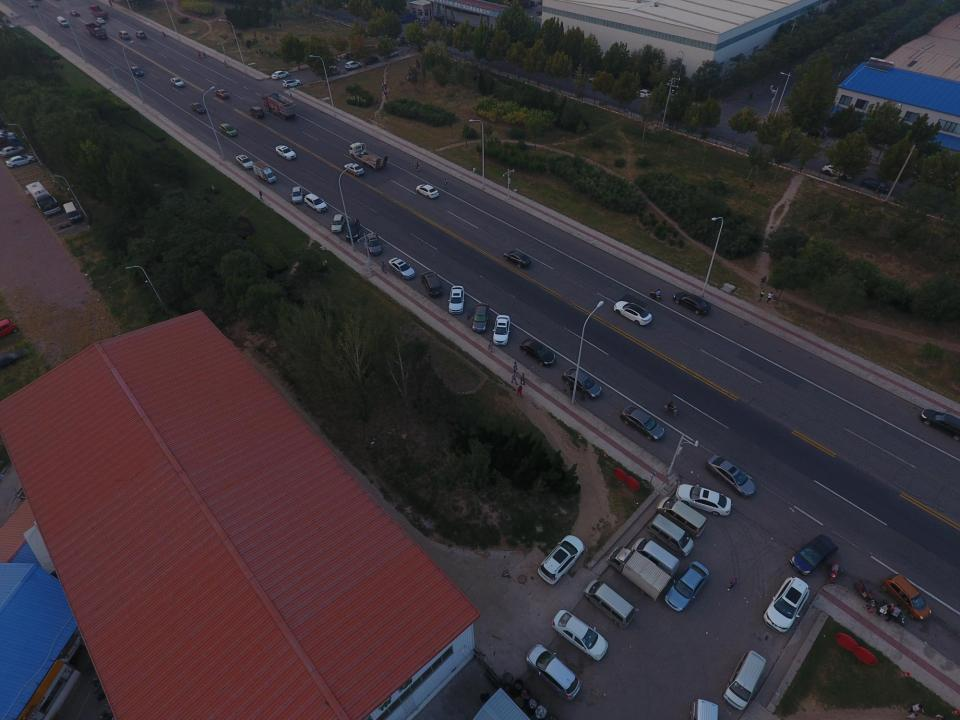bus: (25, 181, 60, 215)
car: (525, 644, 582, 700), (552, 610, 608, 661), (764, 576, 811, 634), (881, 572, 932, 622), (663, 560, 710, 613), (537, 535, 585, 585), (706, 454, 756, 498), (790, 533, 838, 575), (675, 483, 732, 516), (619, 404, 665, 441), (919, 407, 960, 440), (561, 367, 602, 399), (519, 337, 556, 366), (613, 300, 652, 326), (672, 291, 712, 315), (821, 161, 854, 181), (388, 257, 416, 279), (471, 302, 490, 332), (492, 315, 510, 345), (861, 176, 891, 194), (448, 285, 464, 315), (304, 193, 328, 213), (503, 250, 531, 267), (5, 155, 35, 169), (416, 184, 440, 200), (366, 232, 382, 256), (345, 217, 360, 241), (0, 145, 25, 158), (275, 145, 296, 160), (236, 154, 254, 170), (330, 213, 344, 233), (344, 162, 364, 175), (219, 123, 237, 137), (290, 186, 303, 204), (633, 89, 653, 99), (190, 102, 206, 114), (282, 78, 301, 88), (271, 71, 290, 80), (362, 55, 379, 65), (214, 89, 230, 99), (345, 60, 361, 70), (170, 77, 184, 88), (130, 66, 144, 77), (383, 50, 399, 58), (135, 31, 147, 39), (95, 17, 105, 24), (70, 10, 80, 16), (29, 1, 37, 7)
truck: (606, 546, 672, 601), (346, 142, 388, 170), (260, 92, 298, 120), (251, 160, 277, 184), (85, 22, 108, 40), (88, 4, 108, 20)
van: (582, 579, 636, 628), (724, 649, 766, 711), (656, 496, 707, 538), (647, 513, 694, 557), (631, 537, 680, 579), (689, 695, 720, 720), (420, 270, 442, 297), (62, 201, 82, 222), (249, 106, 265, 118), (57, 16, 69, 27), (119, 31, 130, 40)
